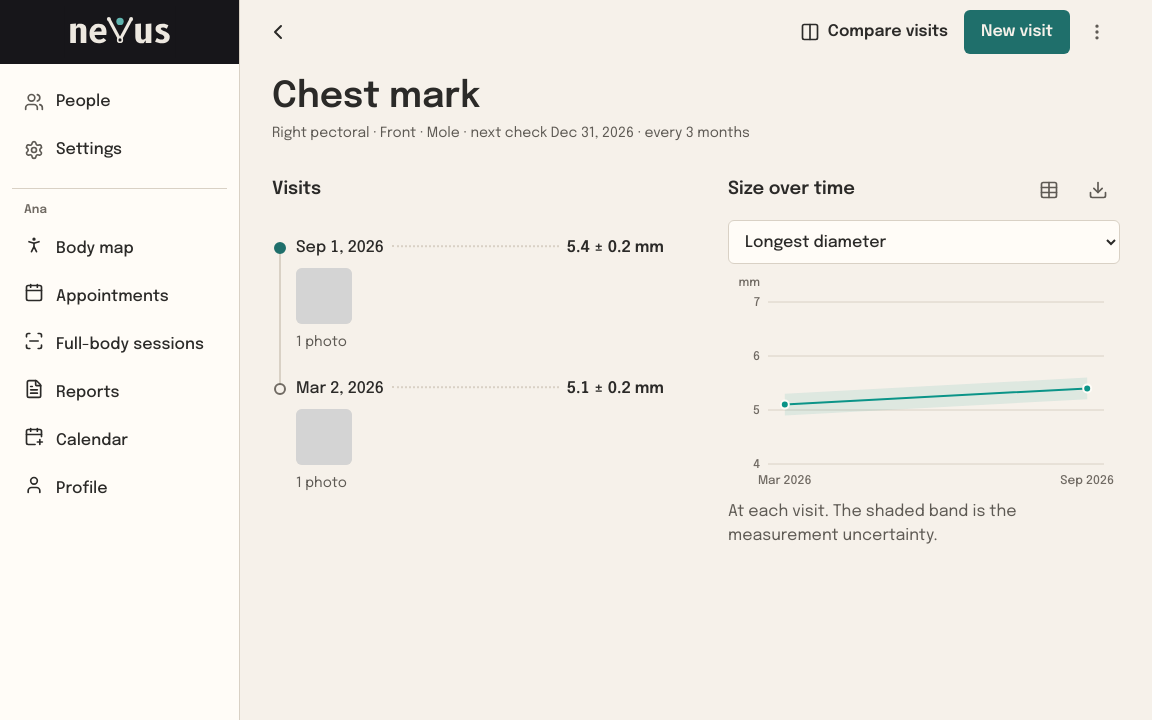
Test: size over time › offers the same numbers as a table and as a CSV download
The width and height of the screenshot is (1152, 720).
Step 1. Click the button named "Show as a table" → (1049, 190), box [1026,168,1072,212]
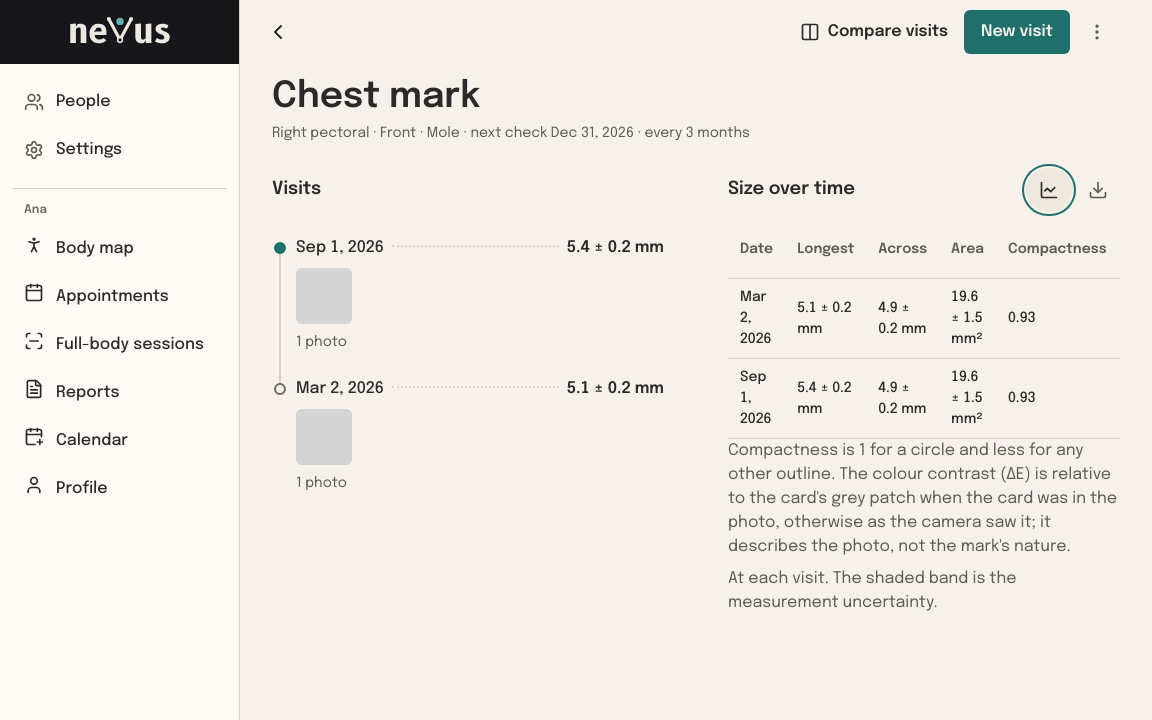
Expected: the number of rows is 3, [728,220,1120,279]; [728,279,1120,359]; [728,359,1120,439]
Expected: the text "5.1 ± 0.2 mm" is shown, [785,279,866,359]
Step 2. Click the button named "Show as a chart" → (1049, 190), box [1026,168,1072,212]
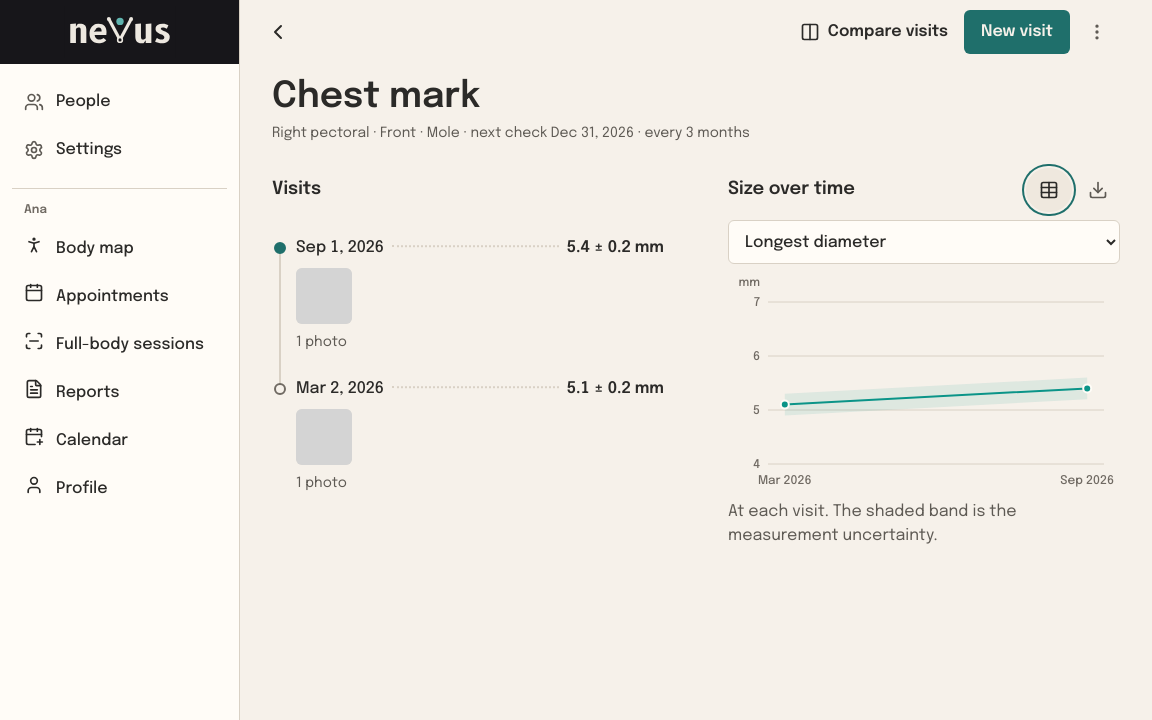
Expected: the slider named "Longest diameter" is shown, [728,272,1120,492]
